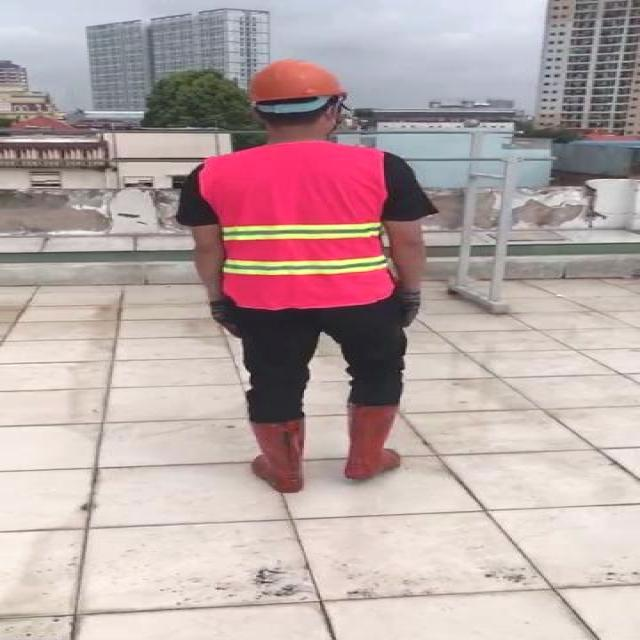boots: (341, 403, 402, 480), (249, 417, 306, 497)
hand_glove: (208, 299, 245, 337), (394, 292, 426, 327)
head_helmet: (249, 57, 352, 106)
person: (185, 54, 430, 507)
vest: (203, 143, 391, 306)
